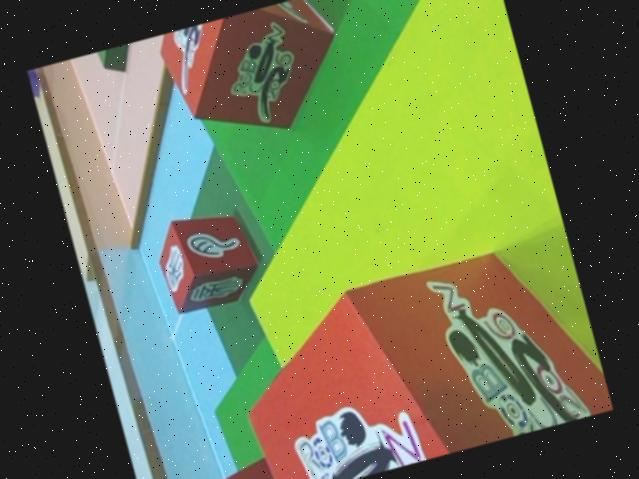R1: (217, 228, 612, 479), (151, 0, 357, 158)
R2 Fake: (145, 197, 269, 320), (184, 449, 299, 479)
